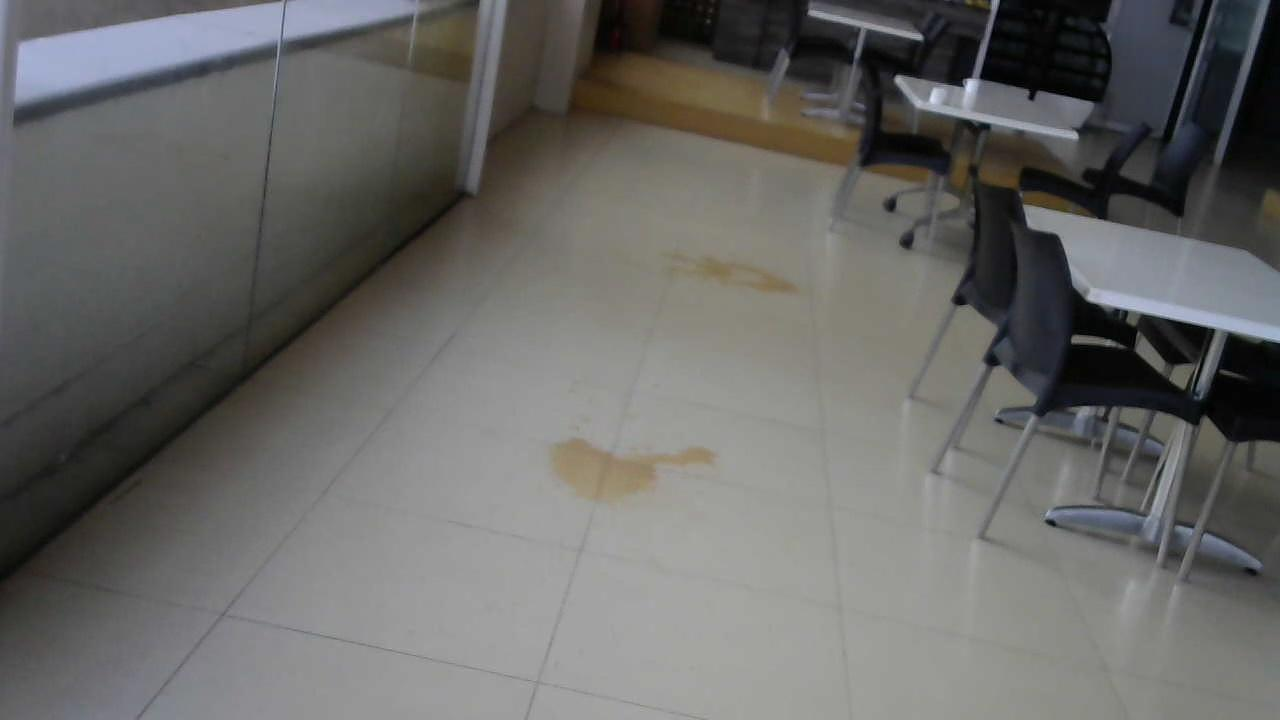dirty_floor: (528, 413, 732, 527)
